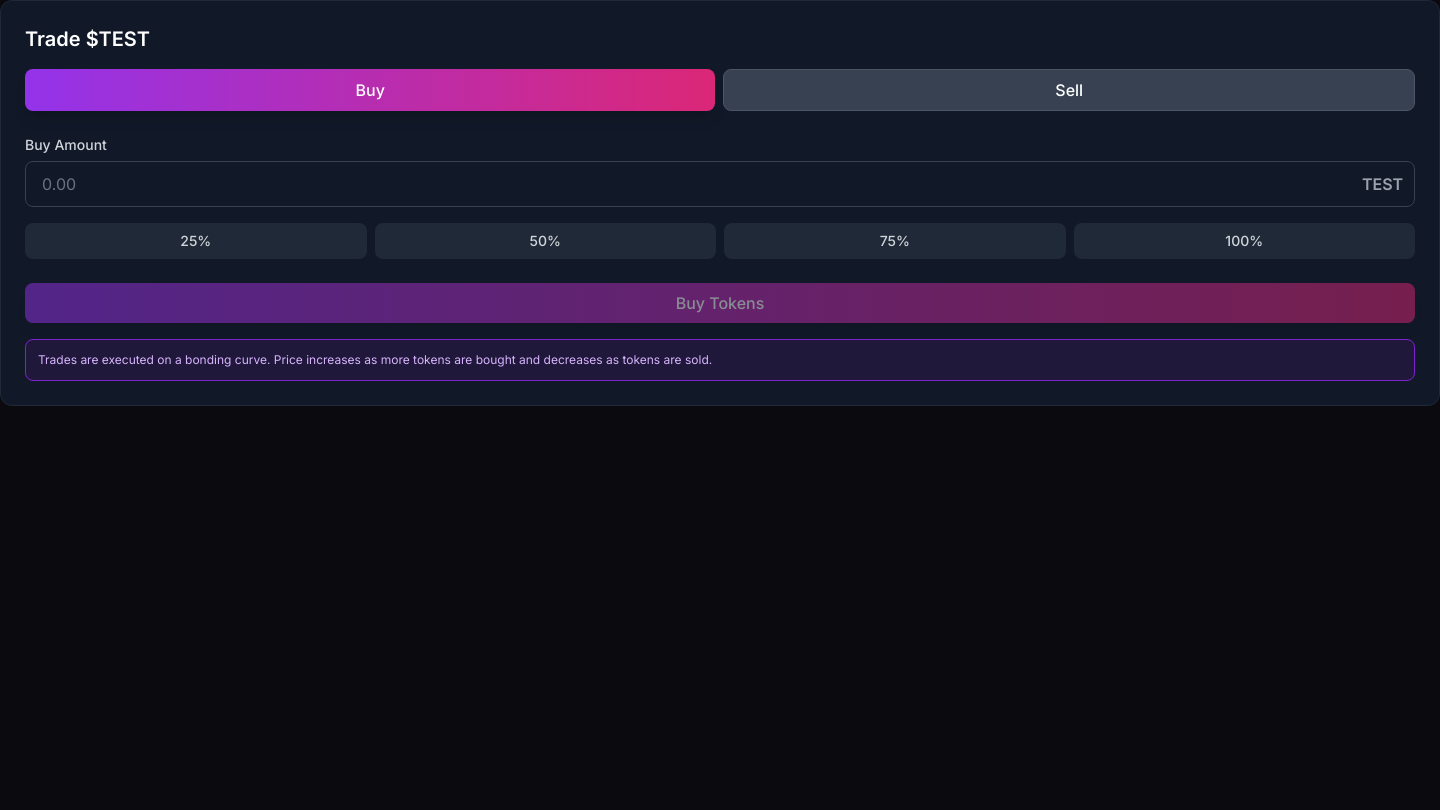
Test: TradingInterface › Quote Display › should show price impact warning for high impact
In the number field with placeholder "0.00": [720, 184] box [25,161,1415,207], type "1000000"
Wait 500 ms
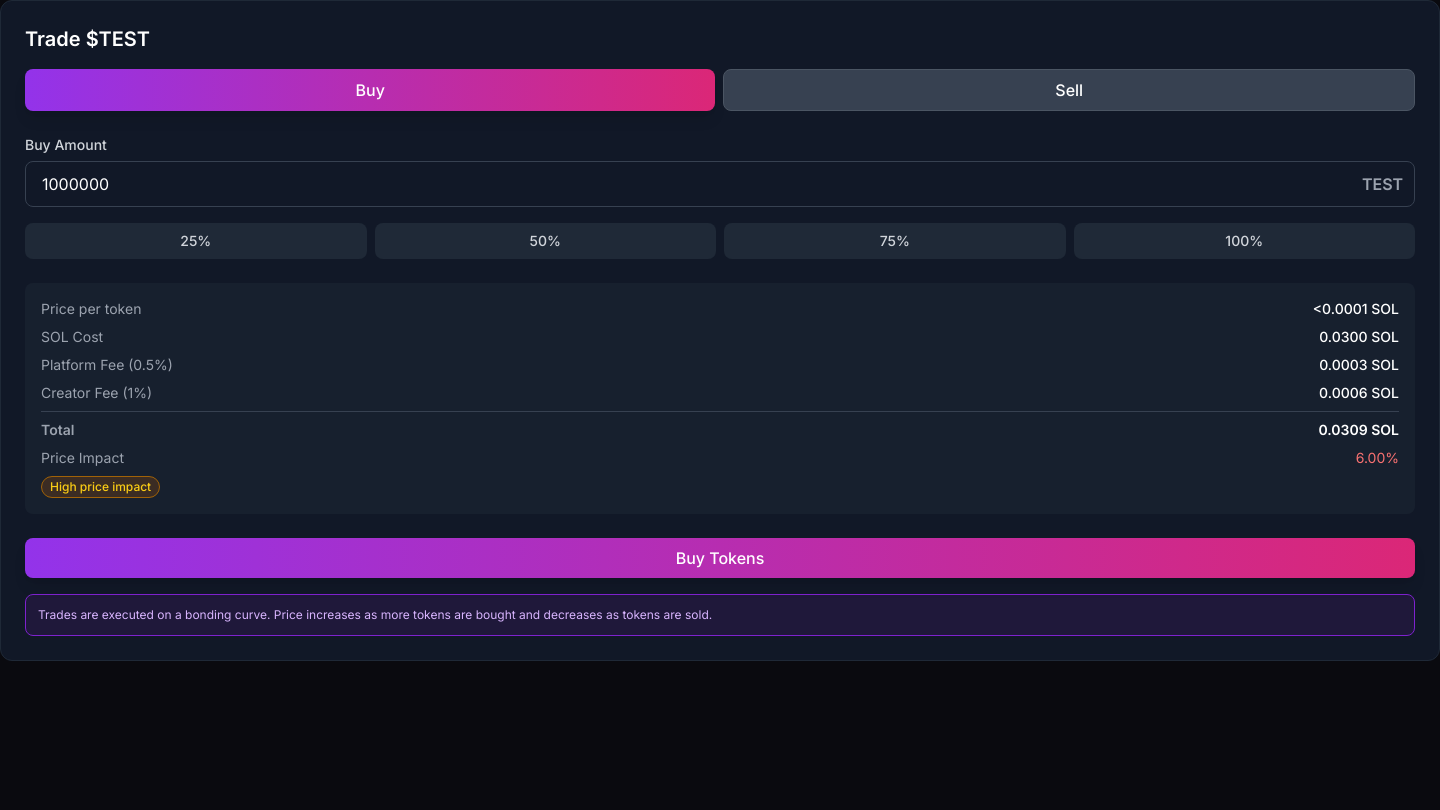
Now the text "High price impact" is shown, box [41,476,160,498]
